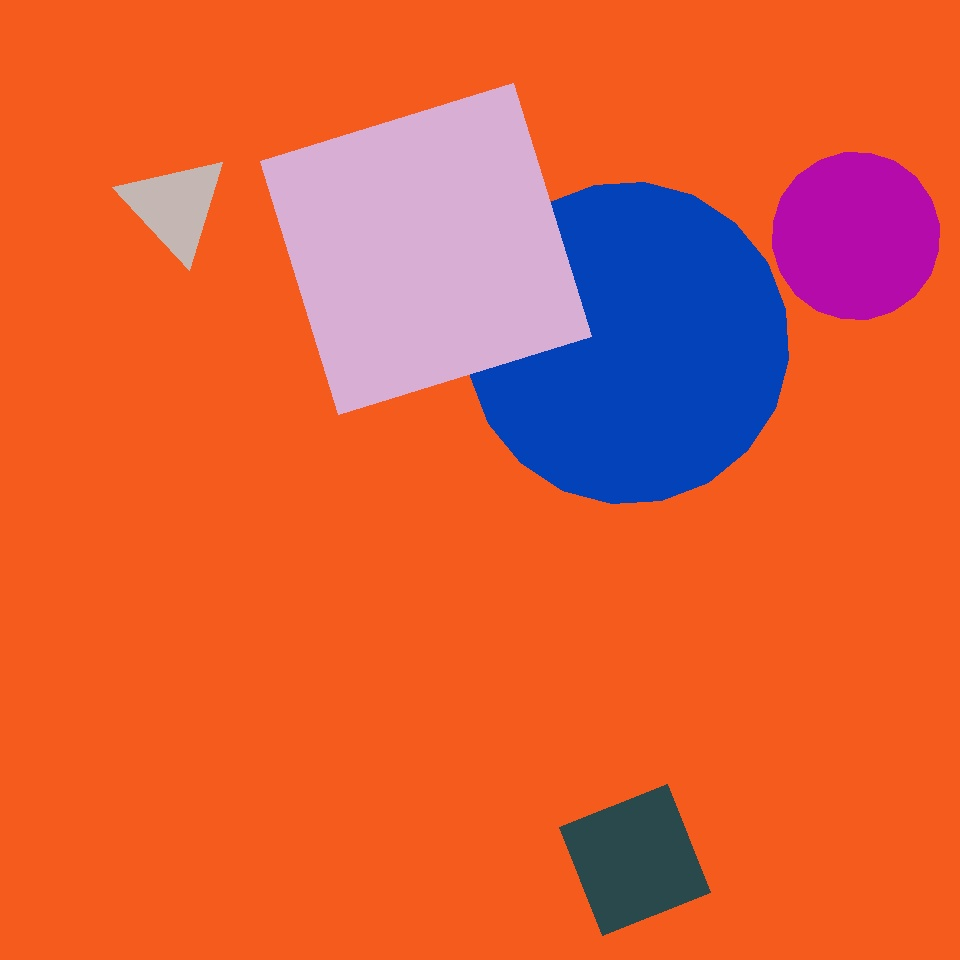circle: (251, 741, 398, 887), (120, 153, 230, 261)
square: (260, 84, 592, 414), (608, 562, 779, 732), (228, 508, 395, 675), (560, 785, 710, 936)
triangle: (337, 585, 661, 909), (468, 183, 788, 503), (772, 152, 940, 319)
